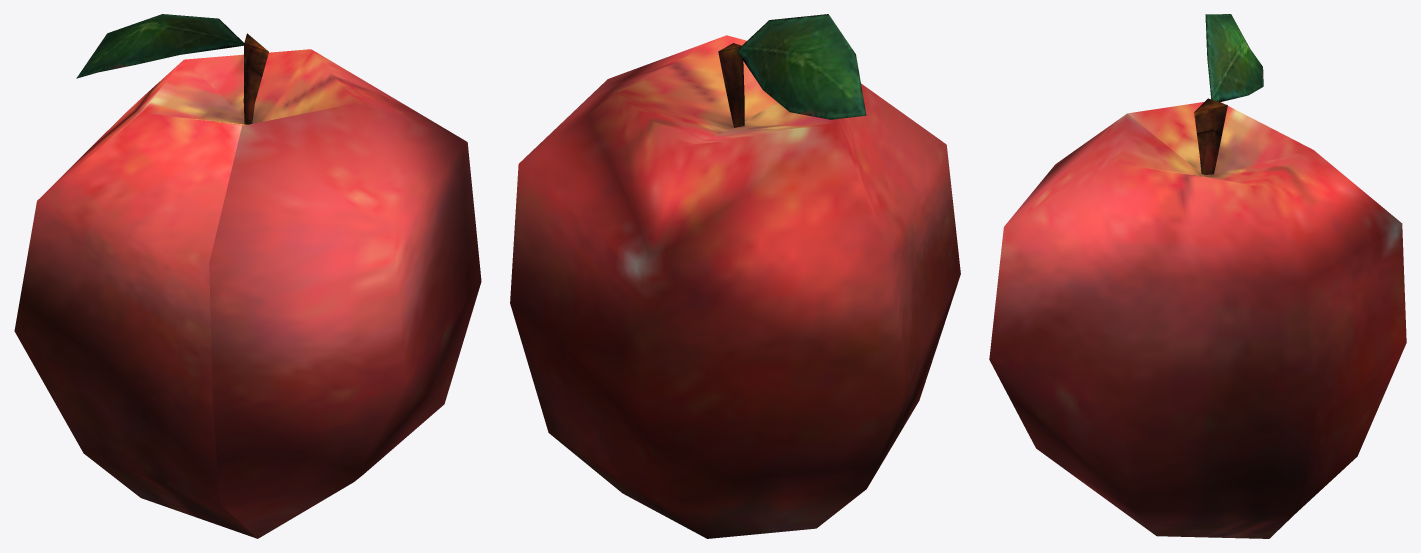
3 renders of one model, left to right at view 1: azimuth 30°, elevation 25°; view 2: azimuth 150°, elevation 25°; view 3: azimuth 270°, elevation 25°, orthographic. The views are drawn at different scales.
Visible parts, largest first — view 1: Object003; view 2: Object003; view 3: Object003.
Boxes of the visible parts, left/top/right/bottom form: Object003: left=14, top=14, right=481, bottom=538; Object003: left=510, top=14, right=960, bottom=538; Object003: left=989, top=14, right=1406, bottom=538.
Bounding box in the file's own units: 0.1522 × 0.1873 × 0.1555.
1 material, 1 textured.
